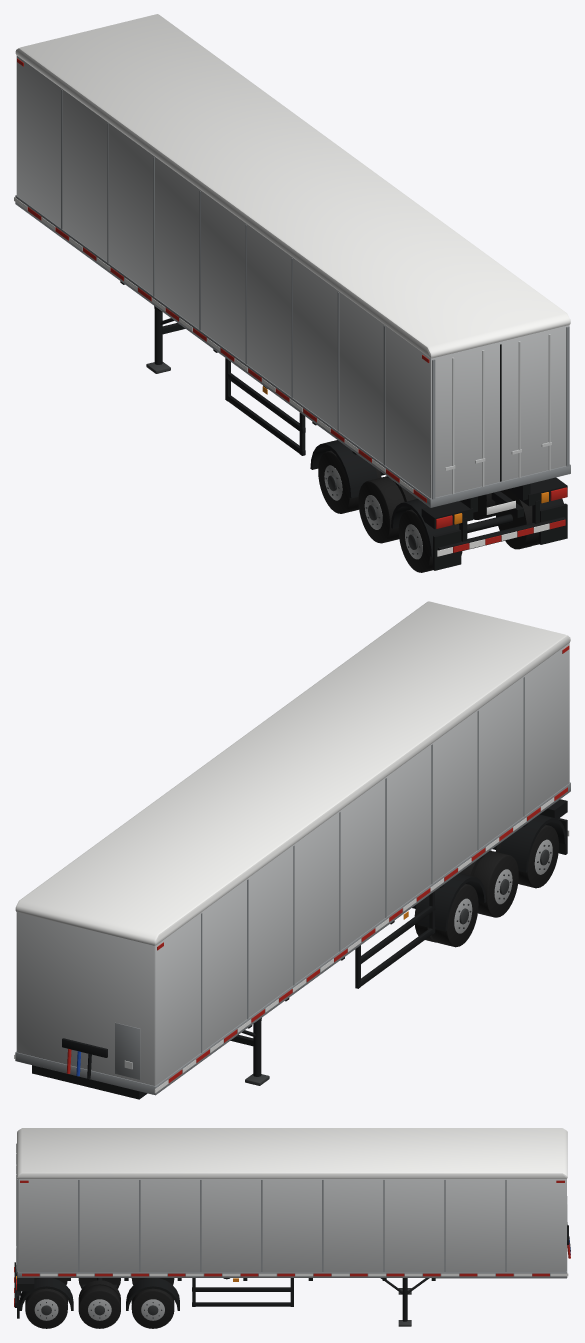
The model's file is reboque-bau.glb.
3 views of the same model, one above another, from view 1: azimuth 30°, elevation 25°; view 2: azimuth 150°, elevation 25°; view 3: azimuth 270°, elevation 25° (orthographic). The views are drawn at different scales.
Parts seen in each view (by area): view 1: corpo; view 2: corpo; view 3: corpo.
Part boxes in pixels (x1,y1,x2,y2): corpo: [14, 14, 570, 572]; corpo: [14, 601, 570, 1099]; corpo: [14, 1128, 570, 1328].
Size of the model in its own units: 2.64 by 4.26 by 13.6.
1 material, 1 textured.
